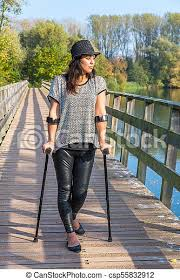crutches: (32, 40, 113, 253)
